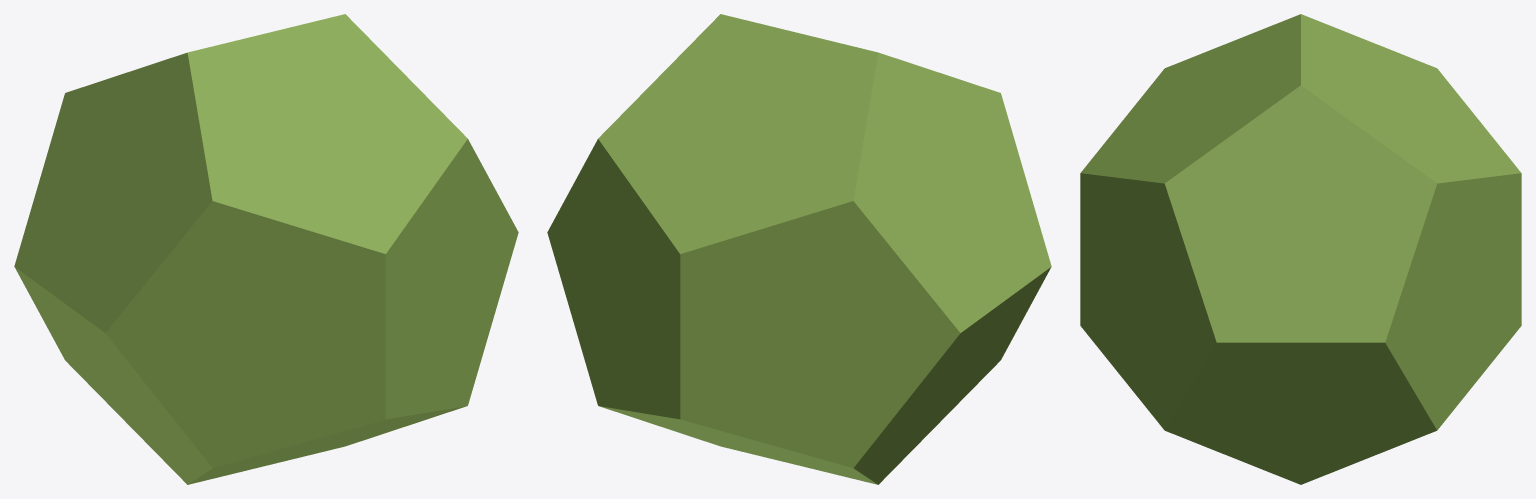
Rendered from canopy-2.glb.
3 views of the same model, side by side, from view 1: azimuth 30°, elevation 25°; view 2: azimuth 150°, elevation 25°; view 3: azimuth 270°, elevation 25° (orthographic). The views are drawn at different scales.
Visible parts, largest first — view 1: Canopy 2; view 2: Canopy 2; view 3: Canopy 2.
Boxes of the visible parts, <box> form: Canopy 2: <box>14,14,518,484</box>; Canopy 2: <box>547,14,1051,484</box>; Canopy 2: <box>1080,14,1521,484</box>.
Size of the model in its own units: 26.21 by 26.21 by 26.21.
